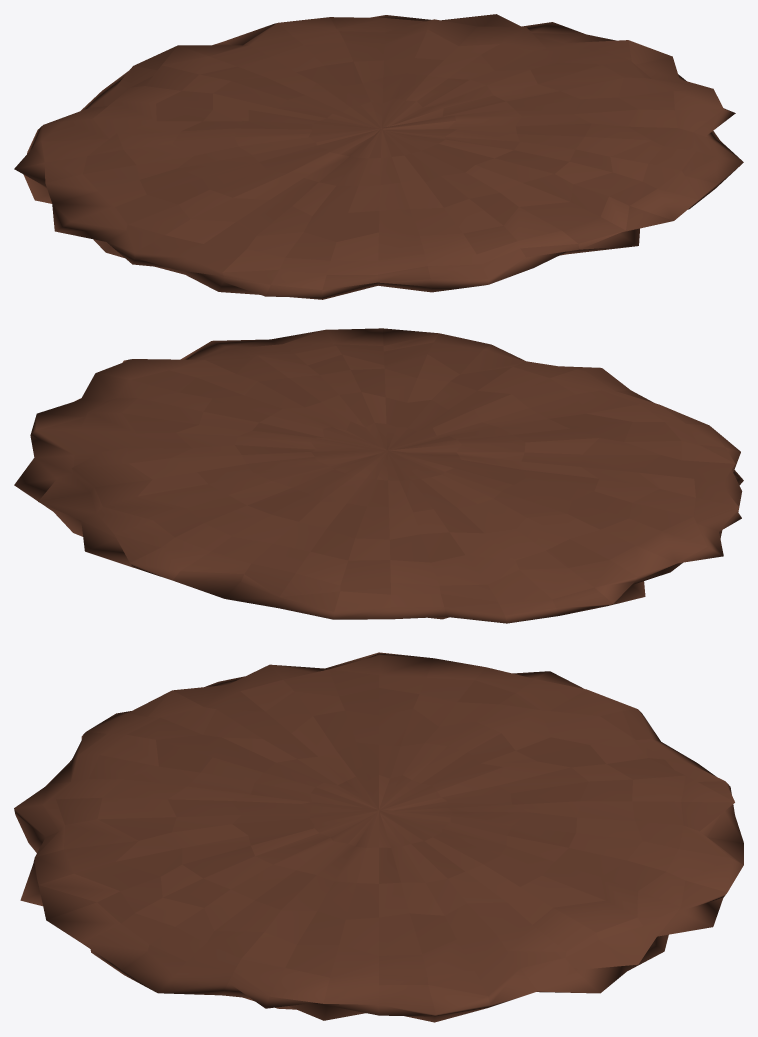
The model's file is GrapeSyrup.glb.
The picture shows the model from 3 angles, top to bottom: view 1: azimuth 30°, elevation 25°; view 2: azimuth 150°, elevation 25°; view 3: azimuth 270°, elevation 25°; orthographic projection. The views are drawn at different scales.
Parts seen in each view (by area): view 1: GrapeSyrup; view 2: GrapeSyrup; view 3: GrapeSyrup.
Boxes of the visible parts, left/top/right/bottom form: GrapeSyrup: left=14, top=14, right=743, bottom=299; GrapeSyrup: left=14, top=328, right=743, bottom=623; GrapeSyrup: left=14, top=652, right=743, bottom=1022.
Size of what is drawn, in the model's own units: 0.0728 by 0.00578 by 0.062.
